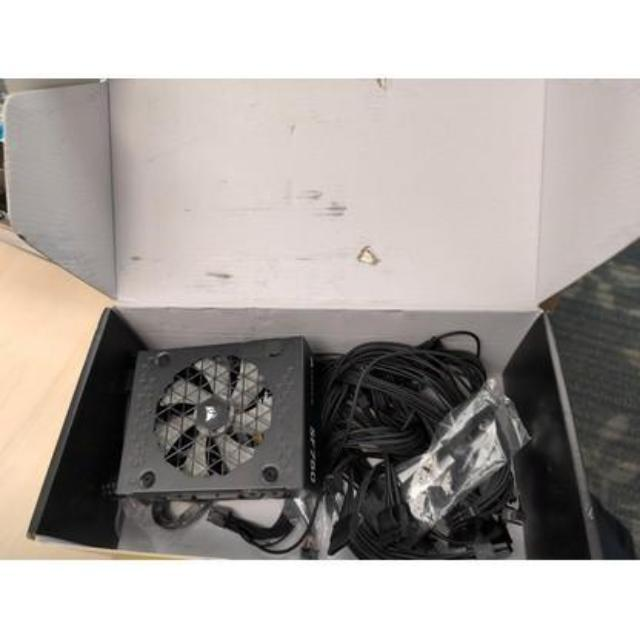PSU: (117, 326, 331, 546)
